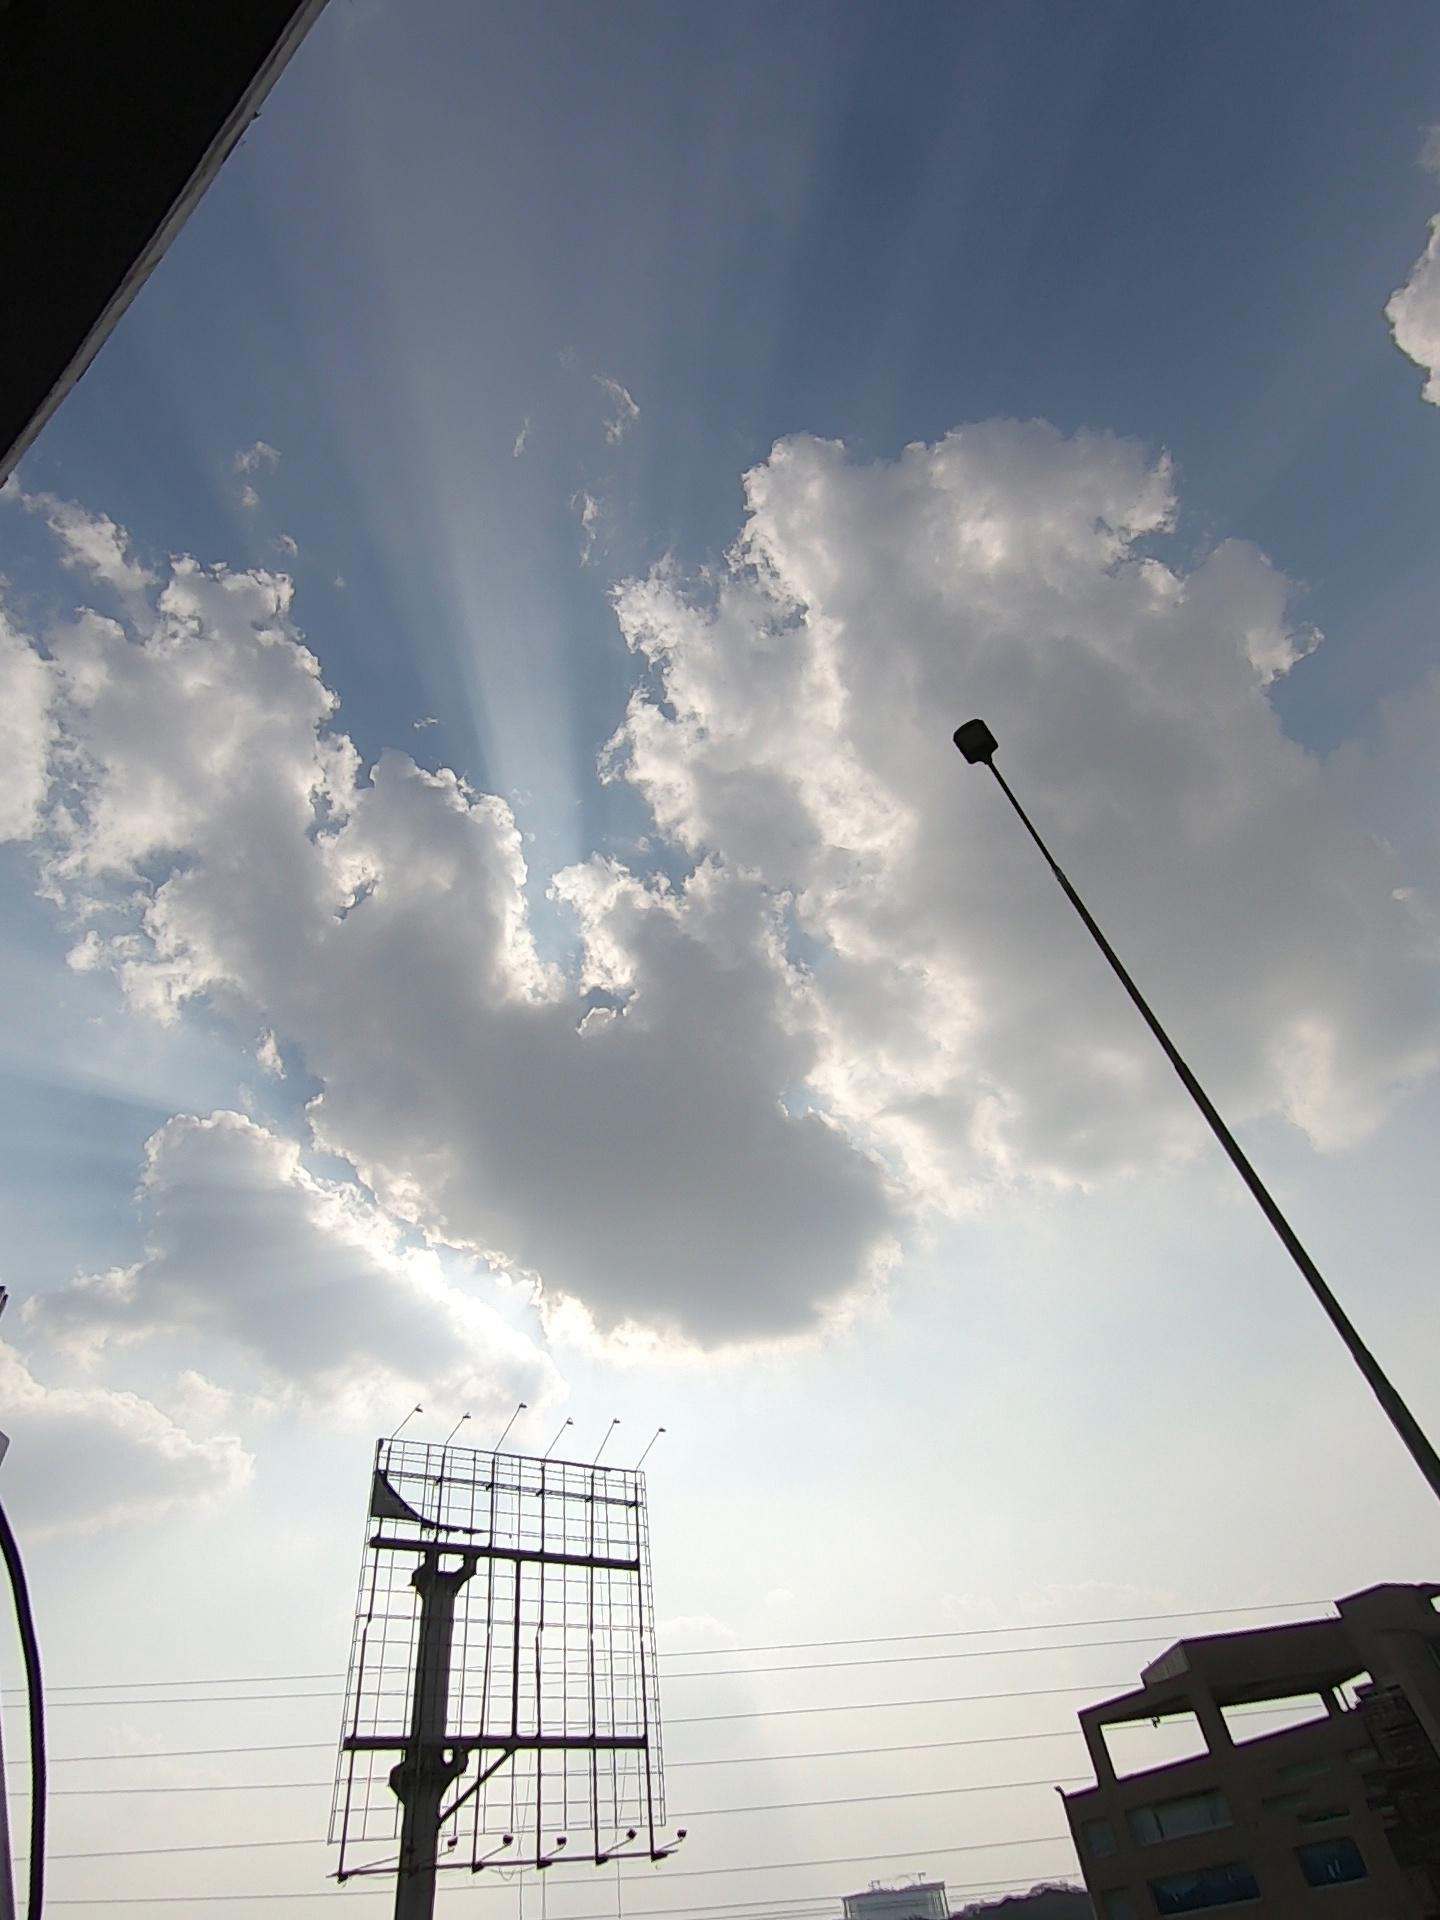off: (911, 652, 1075, 851)
